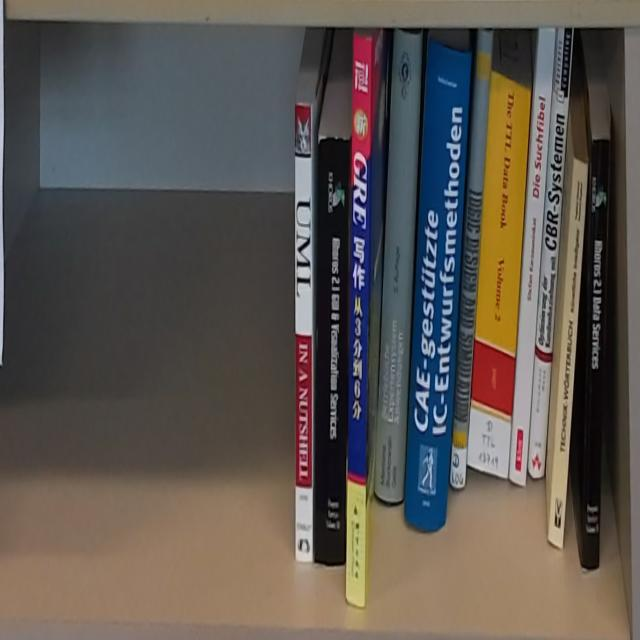Book Spine: (404, 35, 471, 532), (467, 72, 532, 481), (374, 28, 423, 504), (509, 29, 557, 489), (528, 28, 574, 479), (450, 30, 494, 489), (548, 158, 588, 550), (315, 138, 351, 570), (346, 34, 372, 612), (582, 139, 611, 569), (295, 104, 313, 566)
